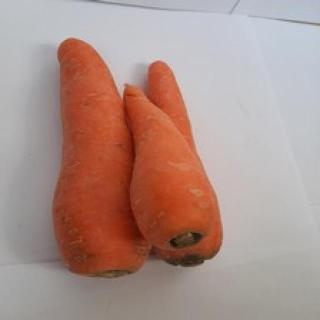carrot: (56, 36, 150, 276), (150, 62, 223, 268), (131, 82, 209, 248)
